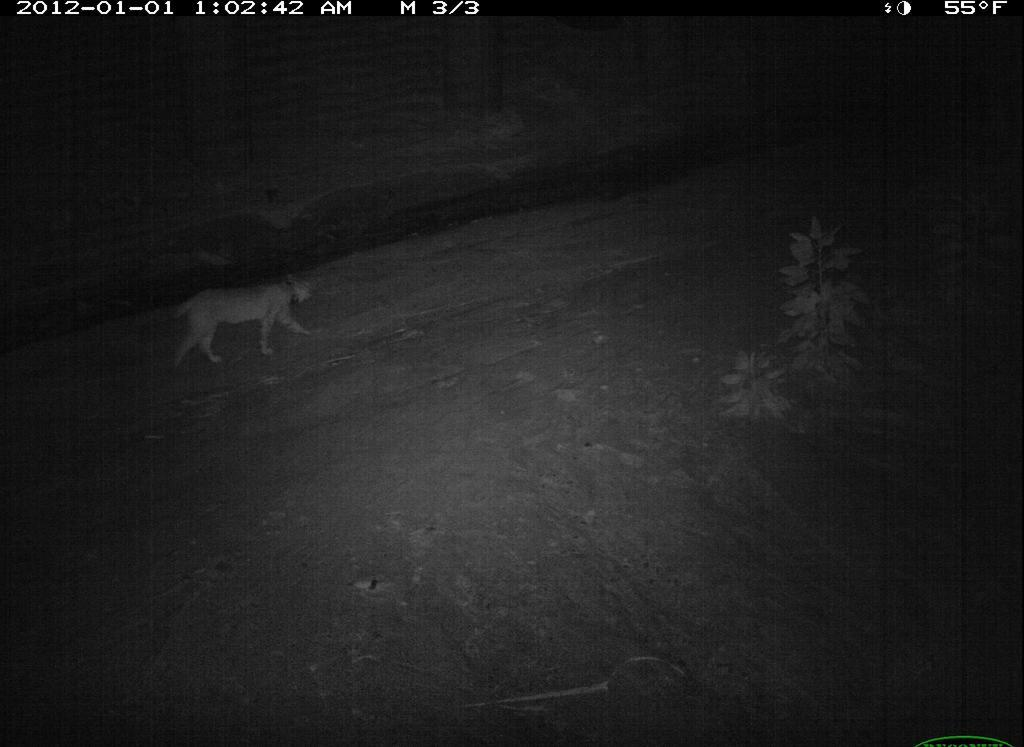bobcat: (158, 258, 337, 378)
